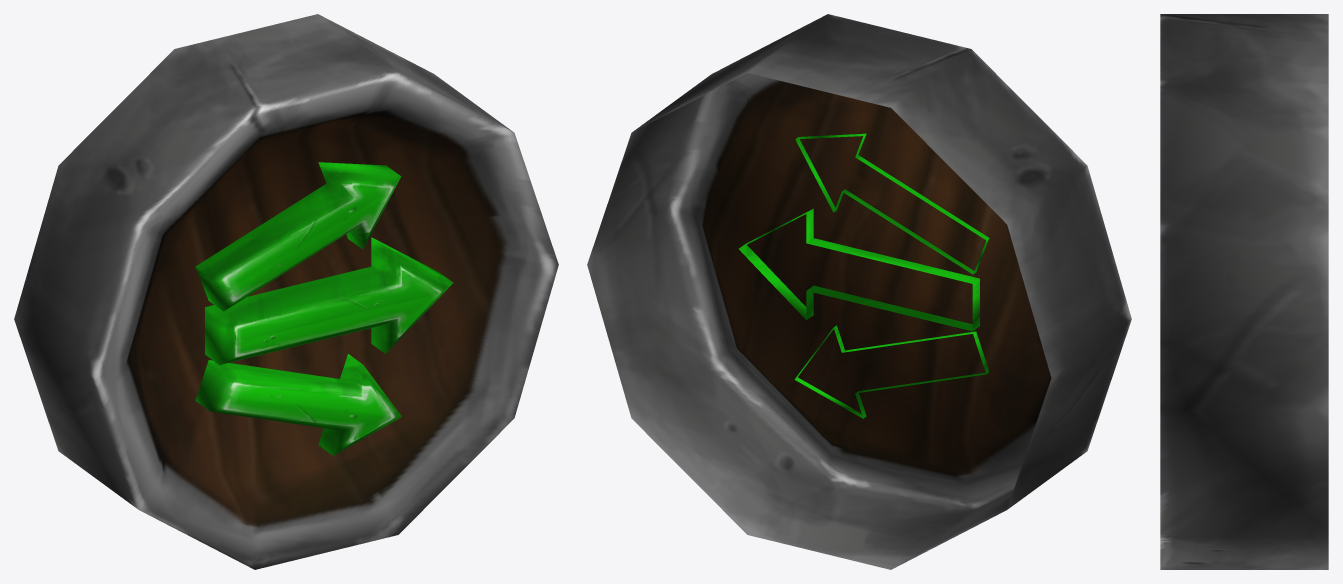
Rendered from Move_Button.fbx.
3 renders of one model, left to right at view 1: azimuth 30°, elevation 25°; view 2: azimuth 150°, elevation 25°; view 3: azimuth 270°, elevation 25°, orthographic. The views are drawn at different scales.
Parts seen in each view (by area): view 1: Cube_1; view 2: Cube_1; view 3: Cube_1.
Part boxes in pixels (bbox=[...]): Cube_1: bbox=[14, 14, 558, 569]; Cube_1: bbox=[587, 14, 1131, 569]; Cube_1: bbox=[1160, 14, 1328, 569].
Bounding box in the file's own units: 1000 × 951 × 300.
1 material, 1 textured.
